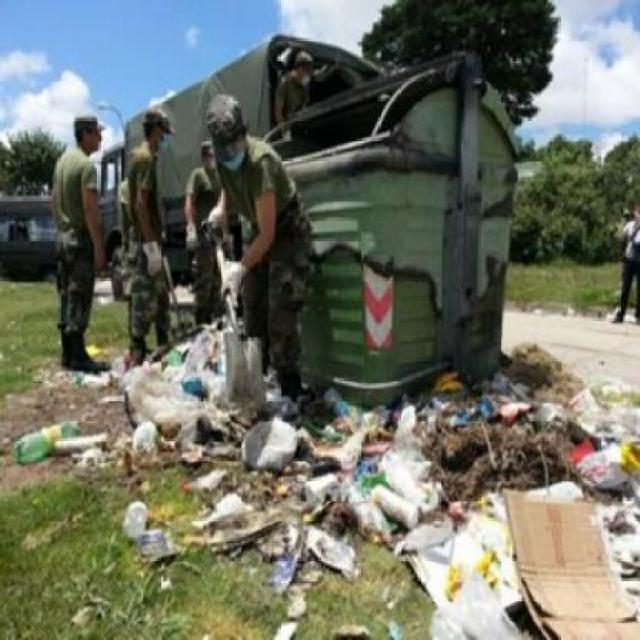garbage: (257, 391, 640, 638), (112, 432, 264, 560), (137, 328, 250, 440), (505, 337, 590, 410), (17, 411, 100, 454)
